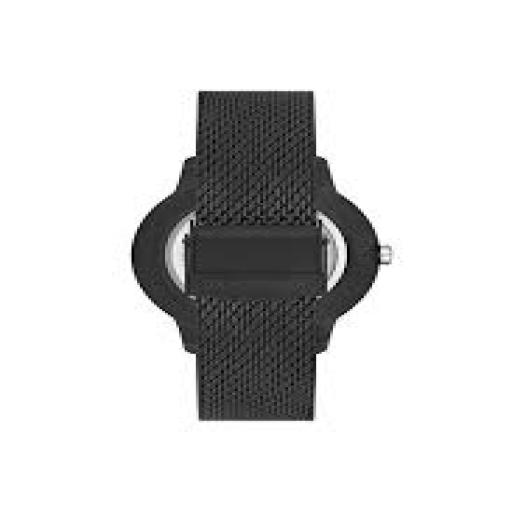KolSaati: (118, 63, 437, 426)
